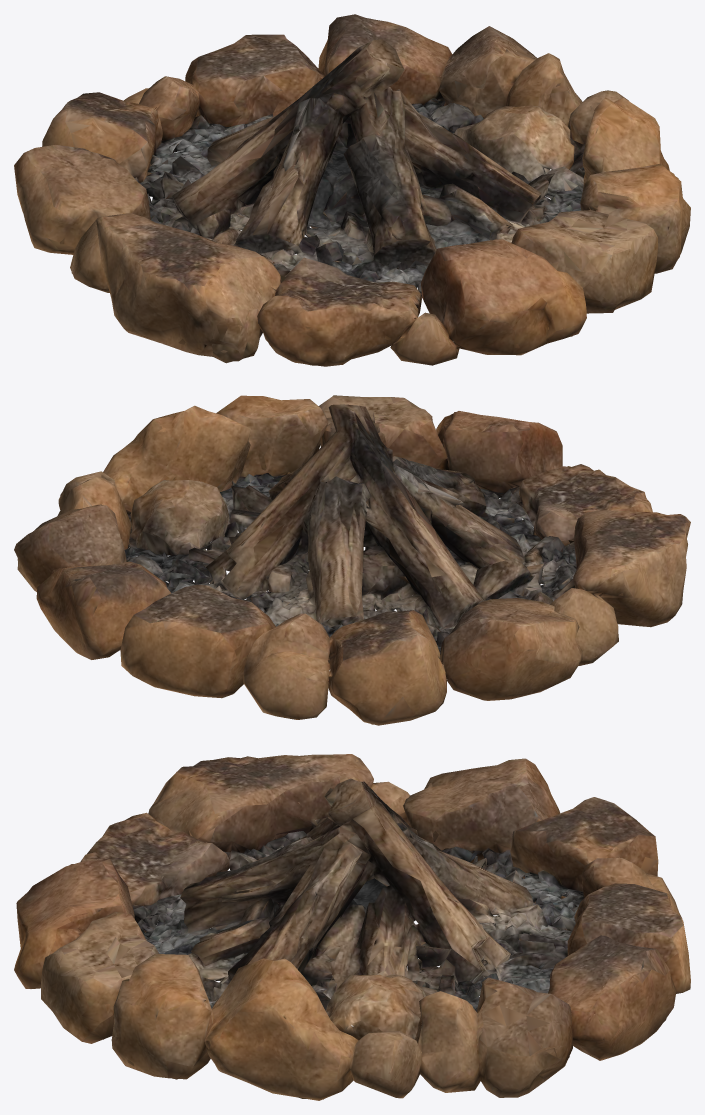
File: prop_campfire.glb
The picture shows the model from 3 angles, top to bottom: view 1: azimuth 30°, elevation 25°; view 2: azimuth 150°, elevation 25°; view 3: azimuth 270°, elevation 25°; orthographic projection. The views are drawn at different scales.
Parts seen in each view (by area): view 1: prop; view 2: prop; view 3: prop.
Boxes of the visible parts, x1,y1,x2,y2 form: prop: [14, 14, 690, 366]; prop: [14, 395, 690, 725]; prop: [14, 754, 690, 1100].
Bounding box in the file's own units: 1 × 0.3174 × 0.9929.
Materials: 1 (1 with a texture image).
